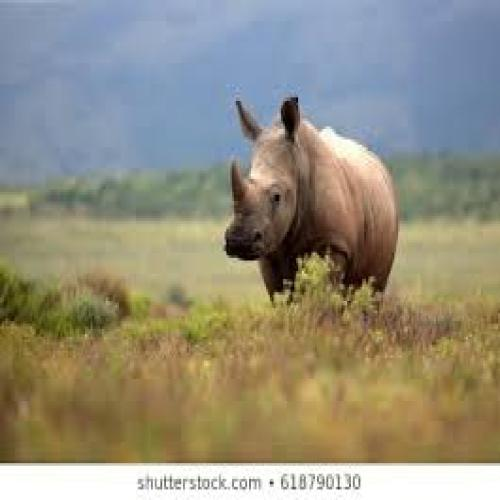rhino-endangered: (222, 94, 405, 305)
